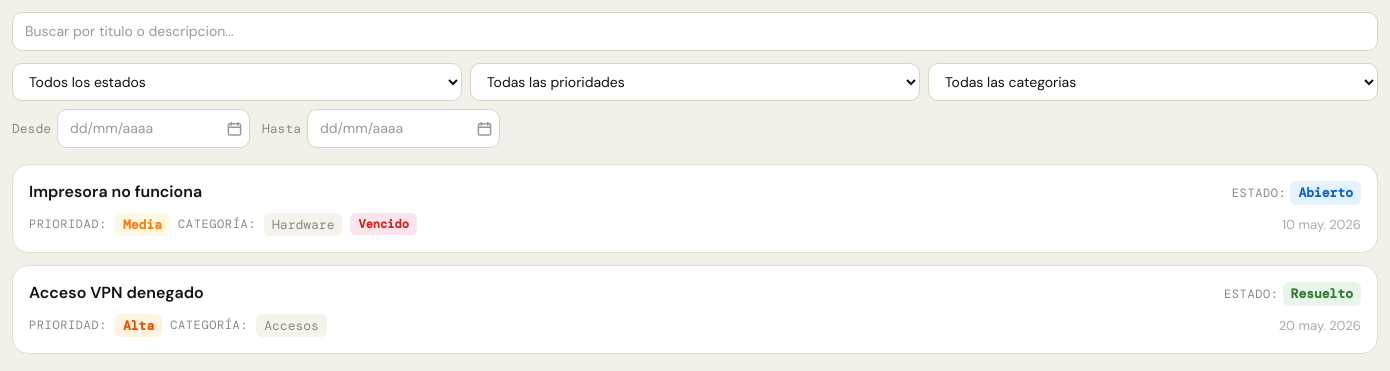
Test: TicketList — busqueda y filtros de fecha › filtra por descripcion con busqueda
Type "servidor" into the field with placeholder "Buscar por titulo o descripcion..." at (695,32), box [12,12,1378,51]
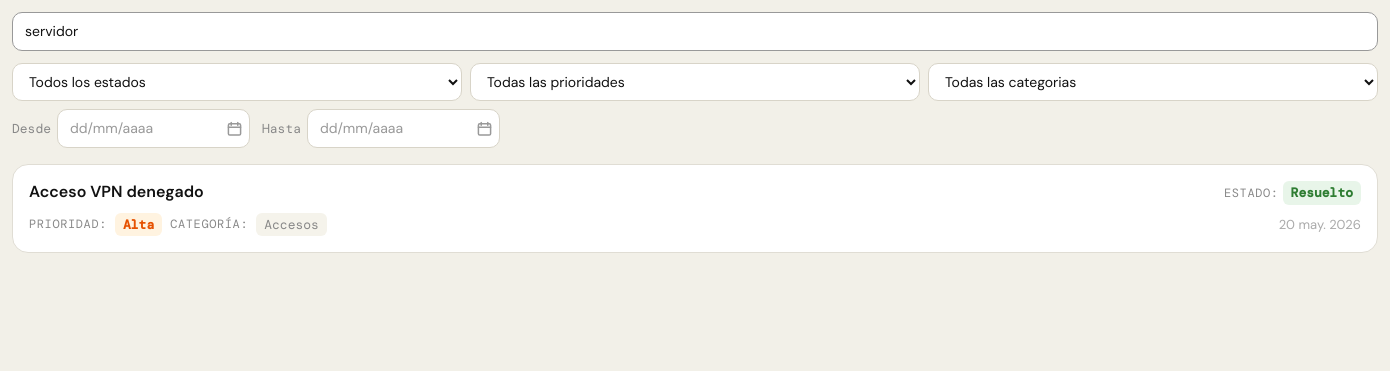
Check: the text "Acceso VPN denegado" is shown, box [29,181,204,202]
Check: the button "Impresora no funciona" is gone
